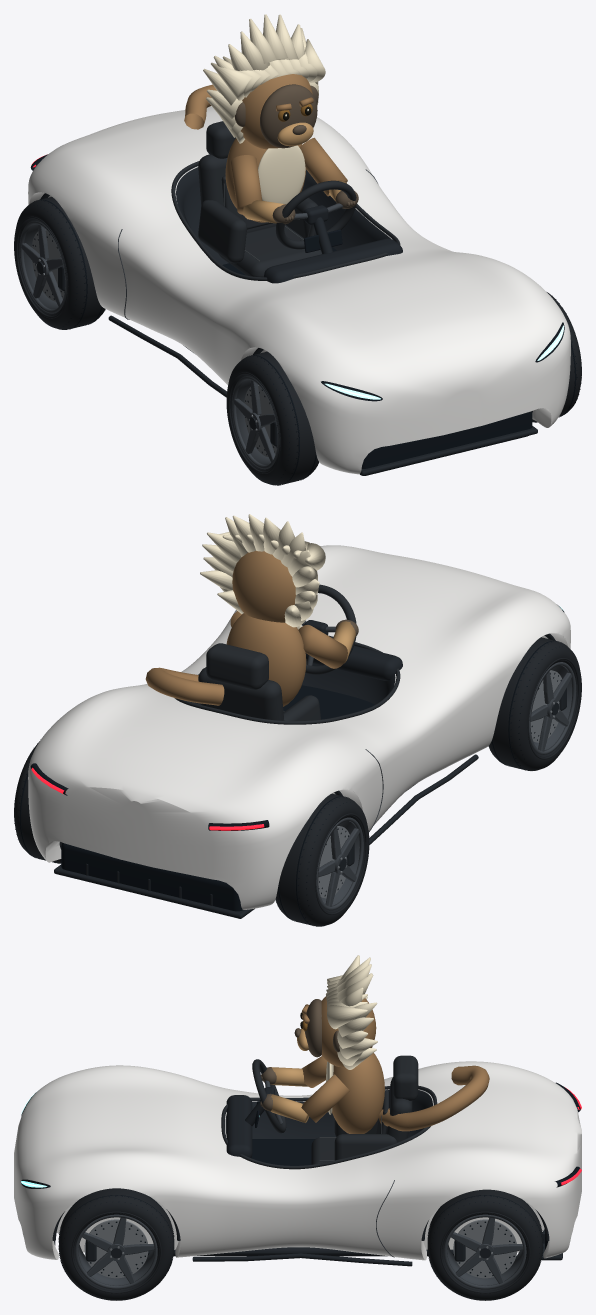
Rendered from saguinus-roadster.glb.
The picture shows the model from 3 angles, top to bottom: view 1: azimuth 30°, elevation 25°; view 2: azimuth 150°, elevation 25°; view 3: azimuth 270°, elevation 25°; orthographic projection. The views are drawn at different scales.
Visible parts, largest first — view 1: Body_Pearl, Tire_FL, Tire_RL, Cockpit_recess_and_rim, Front_intake_cavity, Cream_chest, Seat_cushion, Seat_side_bolster, Dashboard_cowl, Dark_face, Driver_head, Cockpit_soft_piping (+18 smaller); view 2: Body_Pearl, Tire_RL, Tire_FL, Rear_diffuser_cavity, Driver_torso, Driver_head, Seat_headrest, Seat_back, Curled_tail, Cockpit_recess_and_rim, Dashboard_cowl, Rear_diffuser_lower_blade (+15 smaller); view 3: Body_Pearl, Tire_FR, Tire_RR, Driver_torso, Curled_tail, Cockpit_recess_and_rim, Ventilated_brake_FR, Ventilated_brake_RR, Footwell, Dashboard_cowl, Lower_sill_shadow.001, Cockpit_soft_piping (+19 smaller).
Part boxes in pixels (bbox=[...]): Body_Pearl: bbox=[28, 106, 570, 474]; Tire_FL: bbox=[226, 351, 318, 485]; Tire_RL: bbox=[14, 197, 105, 329]; Cockpit_recess_and_rim: bbox=[175, 165, 392, 264]; Front_intake_cavity: bbox=[359, 411, 532, 475]; Cream_chest: bbox=[258, 145, 305, 204]; Seat_cushion: bbox=[219, 225, 321, 277]; Seat_side_bolster: bbox=[198, 200, 247, 263]; Dashboard_cowl: bbox=[264, 238, 402, 283]; Dark_face: bbox=[260, 84, 317, 148]; Driver_head: bbox=[240, 74, 312, 149]; Cockpit_soft_piping: bbox=[171, 161, 400, 280]; Body_Pearl: bbox=[28, 545, 570, 909]; Tire_RL: bbox=[275, 793, 369, 926]; Tire_FL: bbox=[488, 637, 581, 770]; Rear_diffuser_cavity: bbox=[61, 842, 242, 911]; Driver_torso: bbox=[226, 613, 306, 706]; Driver_head: bbox=[232, 550, 295, 622]; Seat_headrest: bbox=[206, 643, 268, 689]; Seat_back: bbox=[198, 667, 283, 720]; Curled_tail: bbox=[145, 667, 224, 705]; Cockpit_recess_and_rim: bbox=[191, 662, 396, 704]; Dashboard_cowl: bbox=[305, 645, 402, 680]; Rear_diffuser_lower_blade: bbox=[54, 864, 254, 918]; Body_Pearl: bbox=[14, 1061, 581, 1260]; Tire_FR: bbox=[59, 1188, 174, 1300]; Tire_RR: bbox=[427, 1189, 542, 1300]; Driver_torso: bbox=[332, 1053, 384, 1133]; Curled_tail: bbox=[379, 1065, 489, 1131]; Cockpit_recess_and_rim: bbox=[224, 1089, 433, 1138]; Ventilated_brake_FR: bbox=[84, 1219, 148, 1278]; Ventilated_brake_RR: bbox=[453, 1219, 517, 1278]; Footwell: bbox=[251, 1139, 314, 1165]; Dashboard_cowl: bbox=[226, 1095, 252, 1157]; Lower_sill_shadow.001: bbox=[192, 1253, 412, 1266]; Cockpit_soft_piping: bbox=[221, 1085, 437, 1169].
Size of the model in its own units: 2.78 by 2.84 by 5.21.
